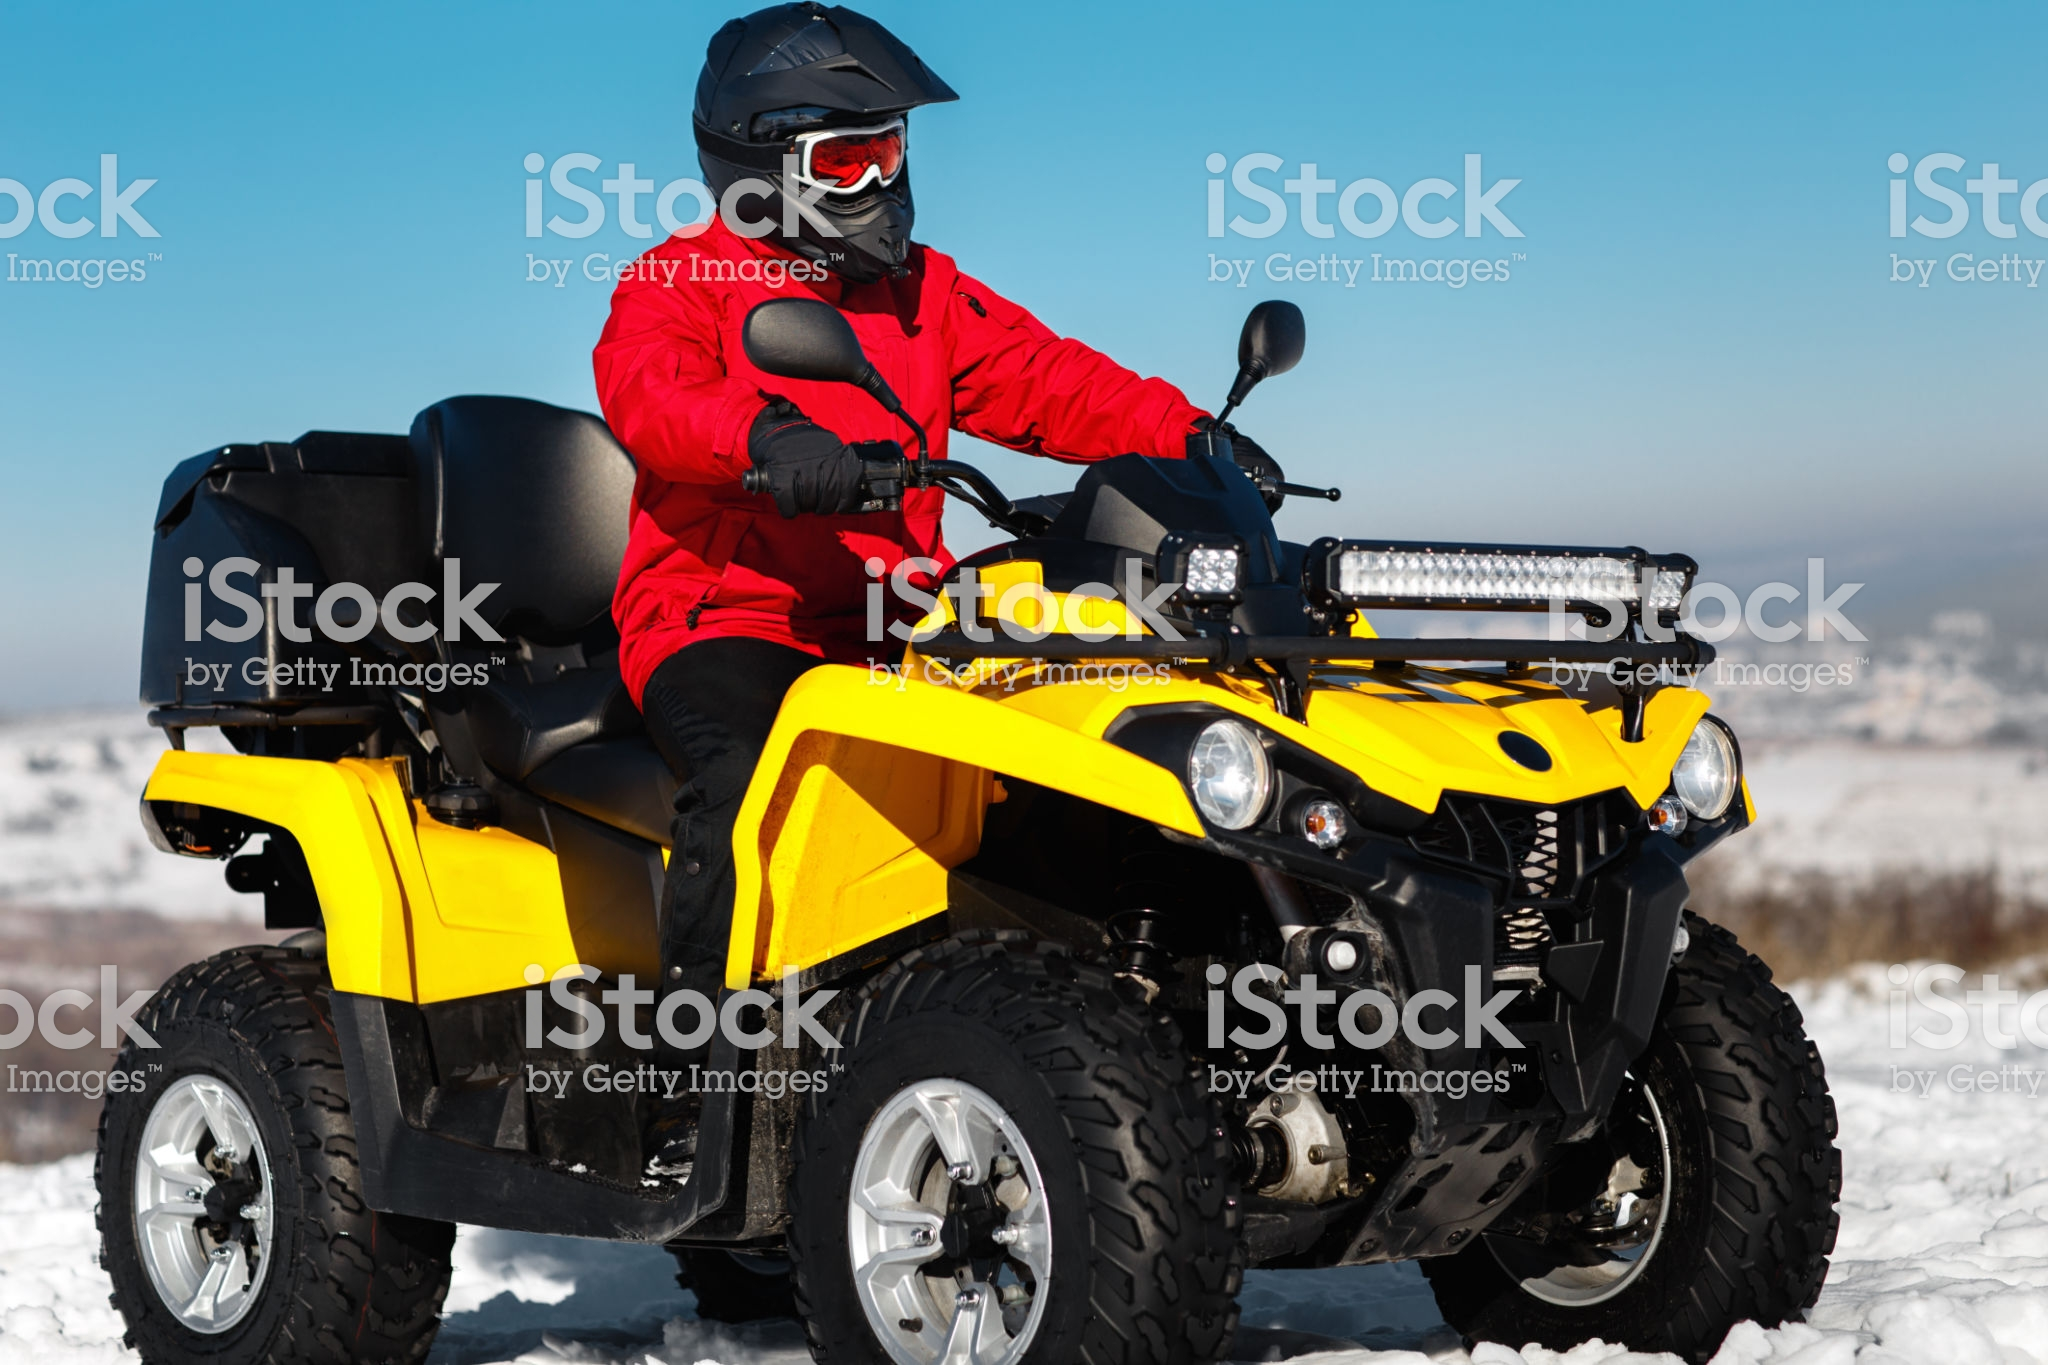helmet: (684, 17, 965, 294)
